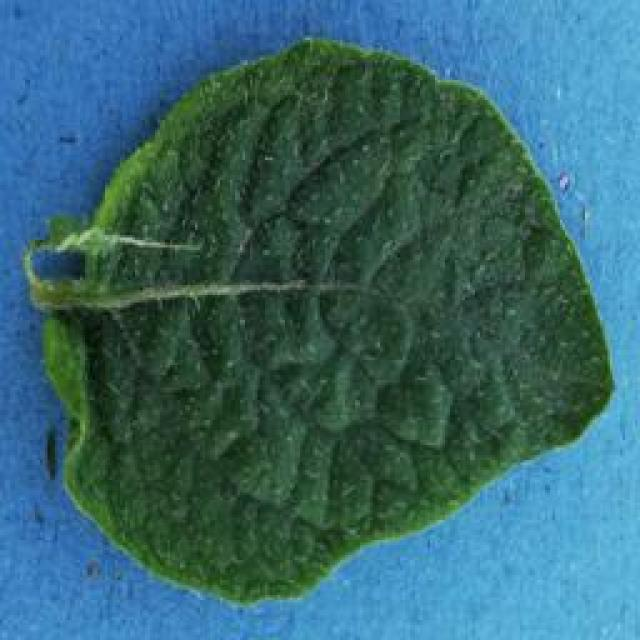Potato_Healthy: (27, 36, 610, 600)
